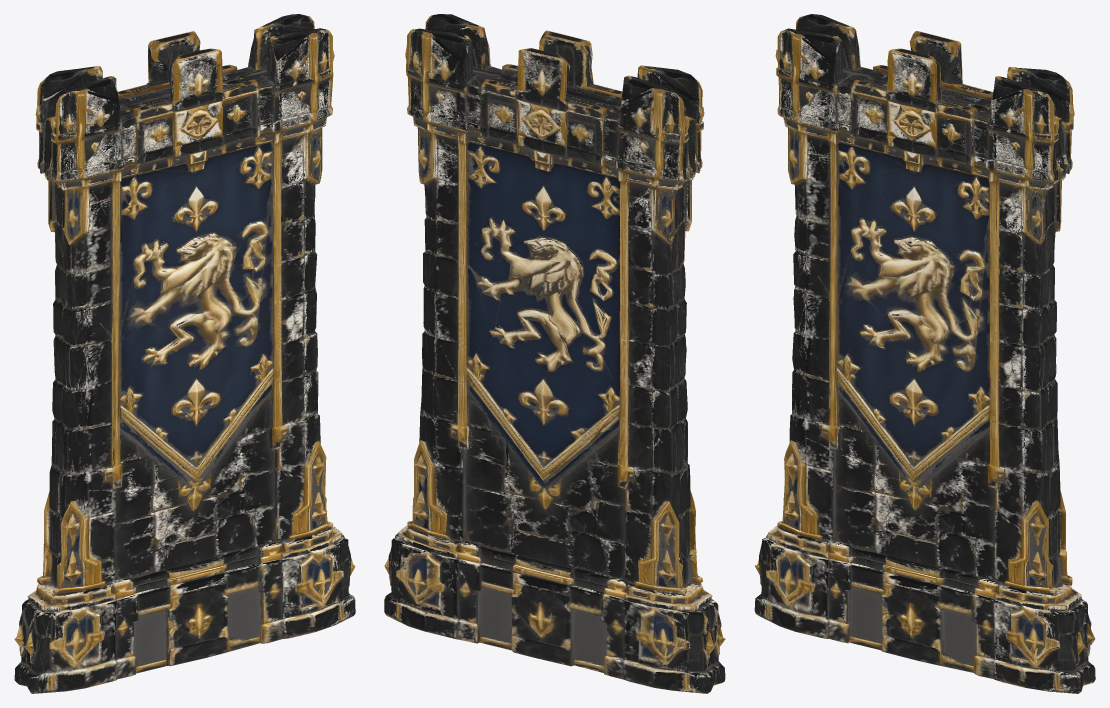
File: shield-black.glb
3 views of the same model, side by side, from view 1: azimuth 30°, elevation 25°; view 2: azimuth 150°, elevation 25°; view 3: azimuth 330°, elevation 25° (orthographic).
Visible parts, largest first — view 1: TowerShield; view 2: TowerShield; view 3: TowerShield.
Boxes of the visible parts, <box> form: TowerShield: <box>14,14,355,693</box>; TowerShield: <box>384,14,725,693</box>; TowerShield: <box>754,14,1095,693</box>.
Bounding box in the file's own units: 0.7737 × 1.35 × 0.1233.
1 material, 1 textured.
